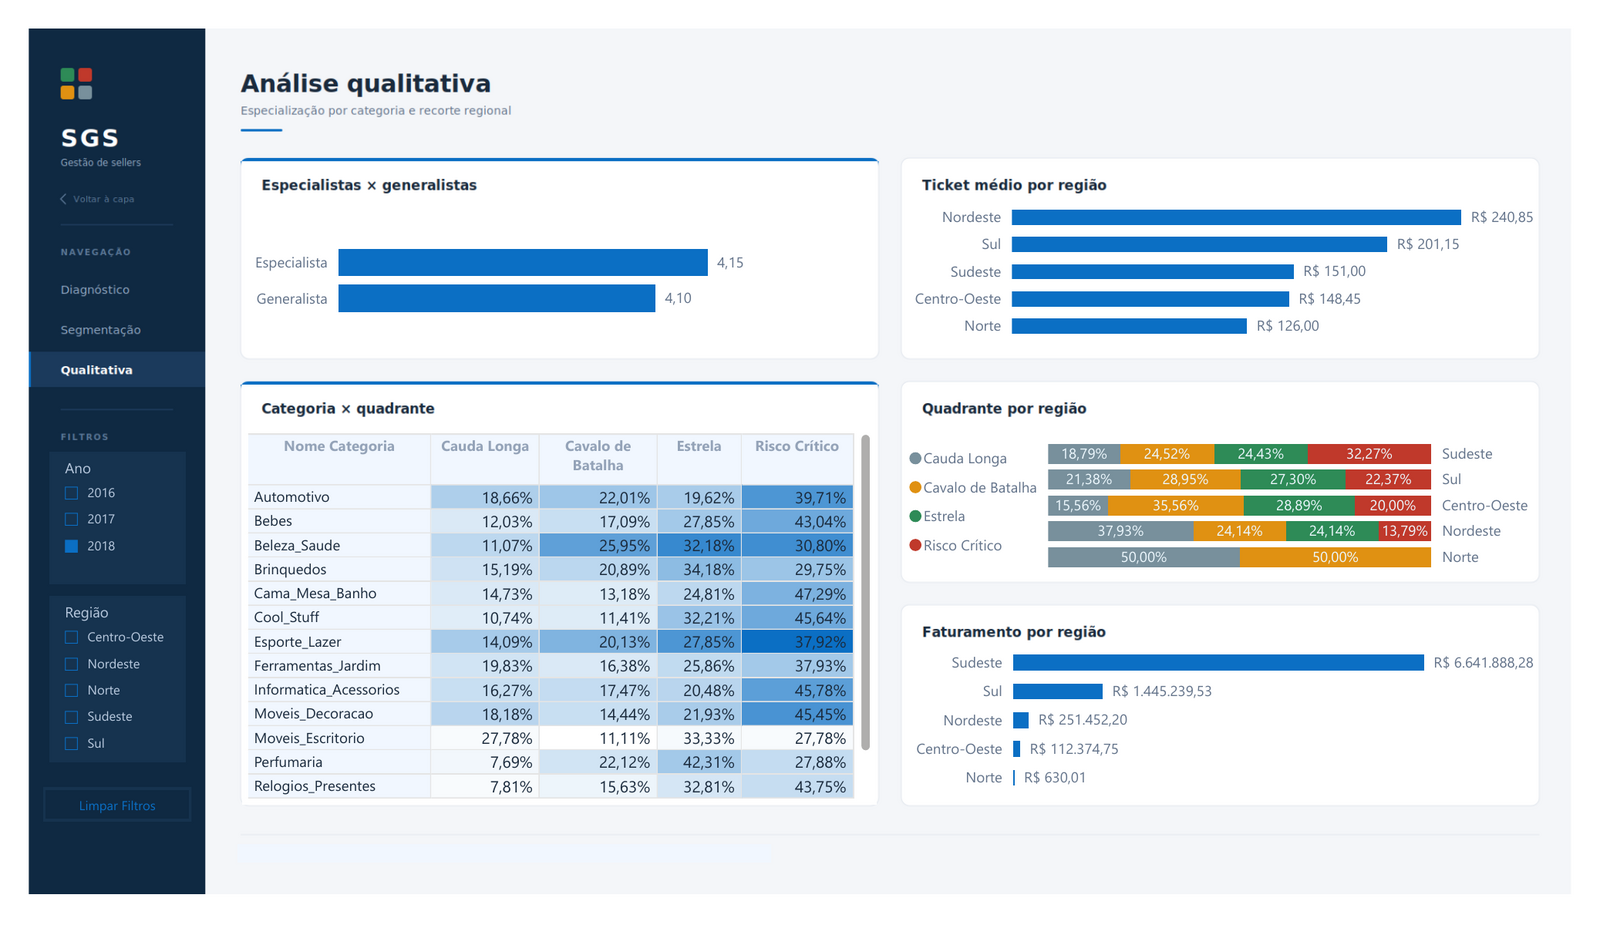

The dashboard page shown, as its layout file describes it:
{"tool":"powerbi","page":{"name":"Qualitativa","canvas":[1280,720],"ordinal":3},"visuals":[{"type":"shape","box":[173,677,442.5,15],"z":0},{"type":"slicer","fields":{"Values":["dCalendario.Ano"]},"box":[16.7,351.4,112.9,109.5],"z":1000},{"type":"slicer","fields":{"Values":["dVendedor.Região"]},"box":[16.7,470.7,112.9,138.6],"z":2000},{"type":"actionButton","box":[11.5,629.5,123,28.5],"z":3000},{"type":"actionButton","box":[0,201.7,146.5,31.3],"z":4000},{"type":"actionButton","box":[0,236.5,146.5,31.3],"z":5000},{"type":"actionButton","box":[0,267.8,146.5,31.3],"z":6000},{"type":"actionButton","box":[0,127.4,146.5,31.3],"z":7000},{"type":"clusteredBarChart","fields":{"Category":["dVendedor.Região"],"Y":["_Medidas.Ticket Médio"]},"box":[725.7,127.6,528.7,140.3],"z":8000},{"type":"clusteredBarChart","fields":{"Category":["dVendedor.Região"],"Y":["_Medidas.Faturamento Total"]},"box":[727.1,497.1,527.1,147.1],"z":9000},{"type":"pivotTable","fields":{"Columns":["dVendedor.Quadrante"],"Rows":["fVendas.Nome Categoria"],"Values":["_Medidas.Qtd Vendedores Ativos"]},"box":[177.3,330.9,526.4,312.7],"z":11000},{"type":"clusteredBarChart","fields":{"Category":["dVendedor.Perfil Vendedor"],"Y":["_Medidas.Nota Média Vendedor"]},"box":[177.2,143.1,527.2,124.7],"z":12000},{"type":"hundredPercentStackedBarChart","fields":{"Category":["dVendedor.Região"],"Series":["dVendedor.Quadrante"],"Y":["_Medidas.Qtd Vendedores Ativos"]},"box":[725,323.3,529.2,137.5],"z":12001}]}

Visuals, with their boxes on the page's 1280x720 design canvas (x1, y1, x2, y2). These are canvas units, not pixel positions in the 1600x925 screenshot, which may show the page scaled, cropped or inside an application window:
shape: <region>173, 677, 616, 692</region>
slicer - dCalendario.Ano: <region>17, 351, 130, 461</region>
slicer - dVendedor.Região: <region>17, 471, 130, 609</region>
actionButton: <region>12, 630, 134, 658</region>
actionButton: <region>0, 202, 146, 233</region>
actionButton: <region>0, 236, 146, 268</region>
actionButton: <region>0, 268, 146, 299</region>
actionButton: <region>0, 127, 146, 159</region>
clusteredBarChart - dVendedor.Região x _Medidas.Ticket Médio: <region>726, 128, 1254, 268</region>
clusteredBarChart - dVendedor.Região x _Medidas.Faturamento Total: <region>727, 497, 1254, 644</region>
pivotTable - dVendedor.Quadrante x fVendas.Nome Categoria: <region>177, 331, 704, 644</region>
clusteredBarChart - dVendedor.Perfil Vendedor x _Medidas.Nota Média Vendedor: <region>177, 143, 704, 268</region>
hundredPercentStackedBarChart - dVendedor.Região x dVendedor.Quadrante: <region>725, 323, 1254, 461</region>
